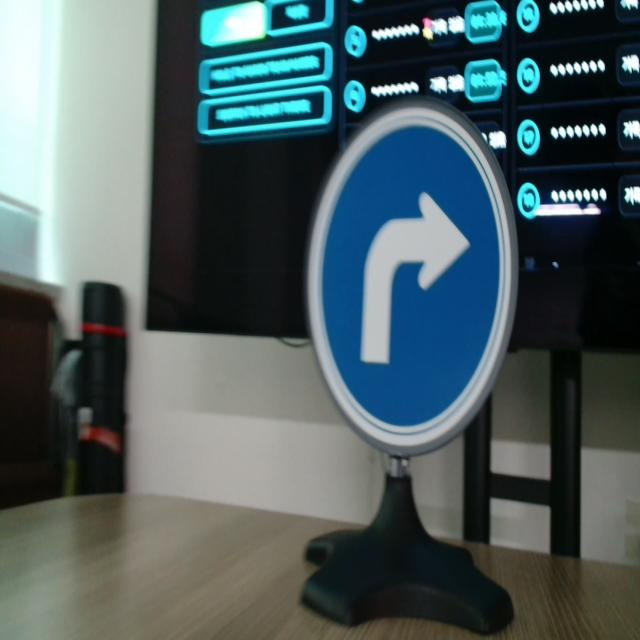right_dierection: (307, 74, 541, 511)
